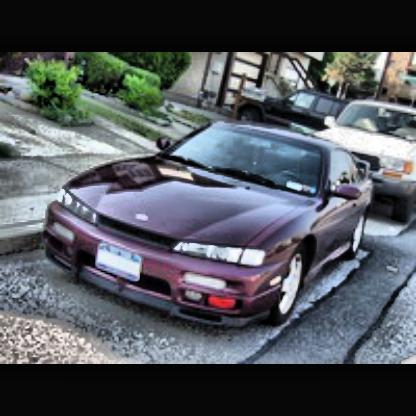Nissan 240SX Coupe 1998: (49, 125, 371, 337)
